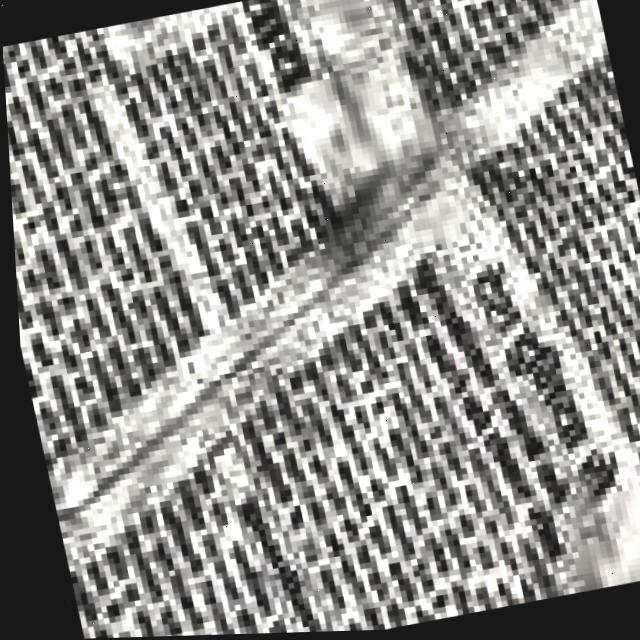paper: (2, 0, 640, 639)
